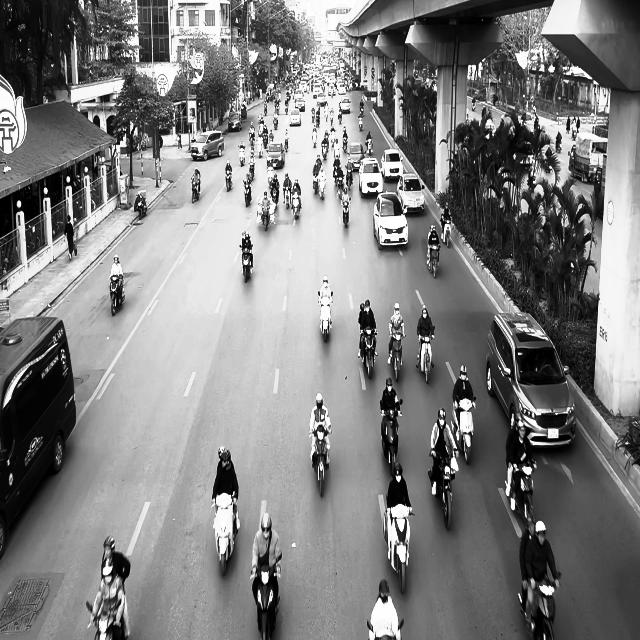car: (486, 310, 576, 450), (373, 192, 408, 250), (396, 173, 426, 213), (190, 130, 224, 160), (358, 157, 383, 197), (381, 148, 403, 181), (266, 141, 284, 169), (228, 112, 241, 132)
motorbike: (382, 494, 415, 593), (517, 572, 561, 640), (250, 554, 282, 640), (212, 492, 240, 576), (429, 450, 458, 530), (507, 457, 537, 521), (380, 399, 402, 476), (452, 396, 476, 464), (86, 600, 127, 639), (310, 426, 331, 496), (416, 332, 435, 384), (360, 328, 378, 378), (388, 331, 405, 382), (366, 618, 404, 639), (318, 293, 333, 342), (109, 273, 125, 316), (239, 244, 253, 282), (426, 241, 440, 278), (134, 190, 147, 218), (441, 215, 452, 248), (341, 196, 351, 227), (243, 178, 252, 207), (191, 177, 200, 203), (238, 143, 246, 166), (225, 169, 232, 192)
truck: (568, 132, 608, 183)
